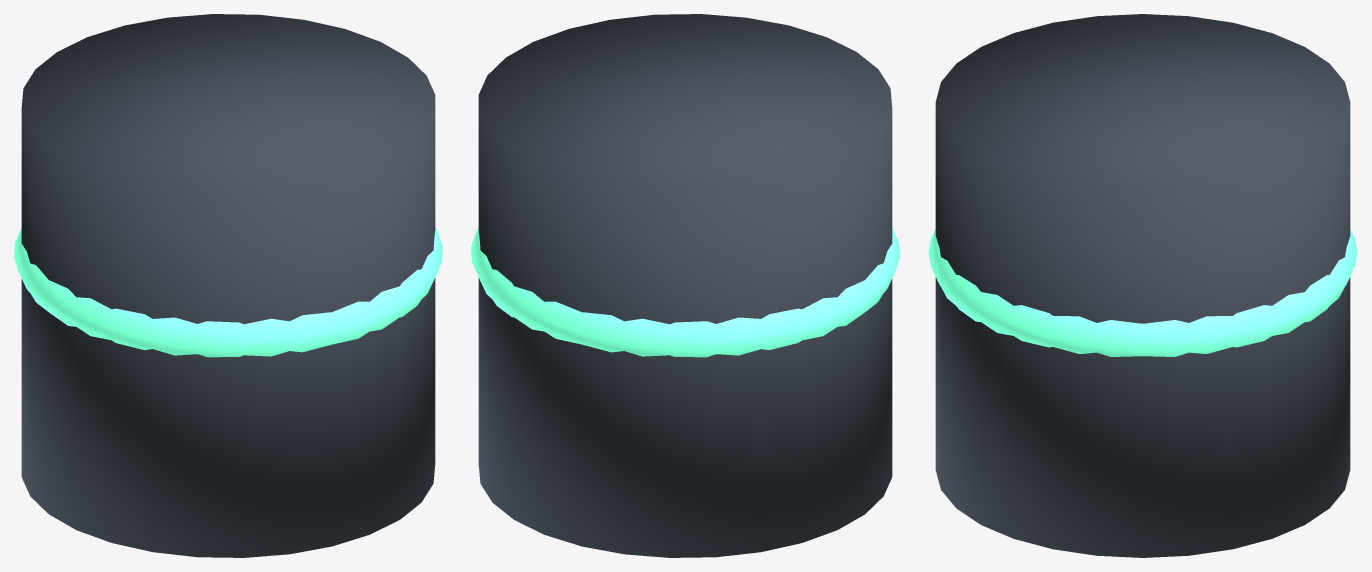
File: 17_L93_ArchiveQualificationBeacon.glb
3 views of the same model, side by side, from view 1: azimuth 30°, elevation 25°; view 2: azimuth 150°, elevation 25°; view 3: azimuth 270°, elevation 25° (orthographic).
Parts seen in each view (by area): view 1: L92_ArchiveQualificationBeaco_Part_0000, L92_ArchiveQualificationBeaco_Part_0001; view 2: L92_ArchiveQualificationBeaco_Part_0000, L92_ArchiveQualificationBeaco_Part_0001; view 3: L92_ArchiveQualificationBeaco_Part_0000, L92_ArchiveQualificationBeaco_Part_0001.
Boxes of the visible parts, <box> form: L92_ArchiveQualificationBeaco_Part_0000: <box>21,14,435,557</box>; L92_ArchiveQualificationBeaco_Part_0001: <box>14,227,442,357</box>; L92_ArchiveQualificationBeaco_Part_0000: <box>478,14,892,557</box>; L92_ArchiveQualificationBeaco_Part_0001: <box>471,227,899,357</box>; L92_ArchiveQualificationBeaco_Part_0000: <box>935,14,1350,557</box>; L92_ArchiveQualificationBeaco_Part_0001: <box>928,229,1357,356</box>.
Bounding box in the file's own units: 1.16 × 1.1 × 1.16.
